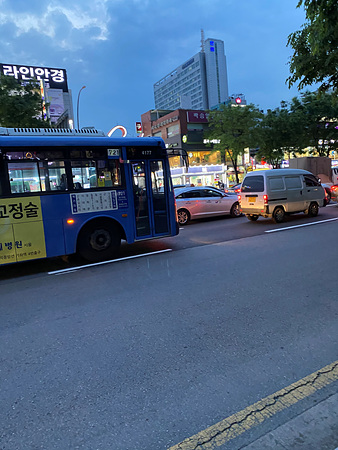entrance: (130, 153, 170, 241)
